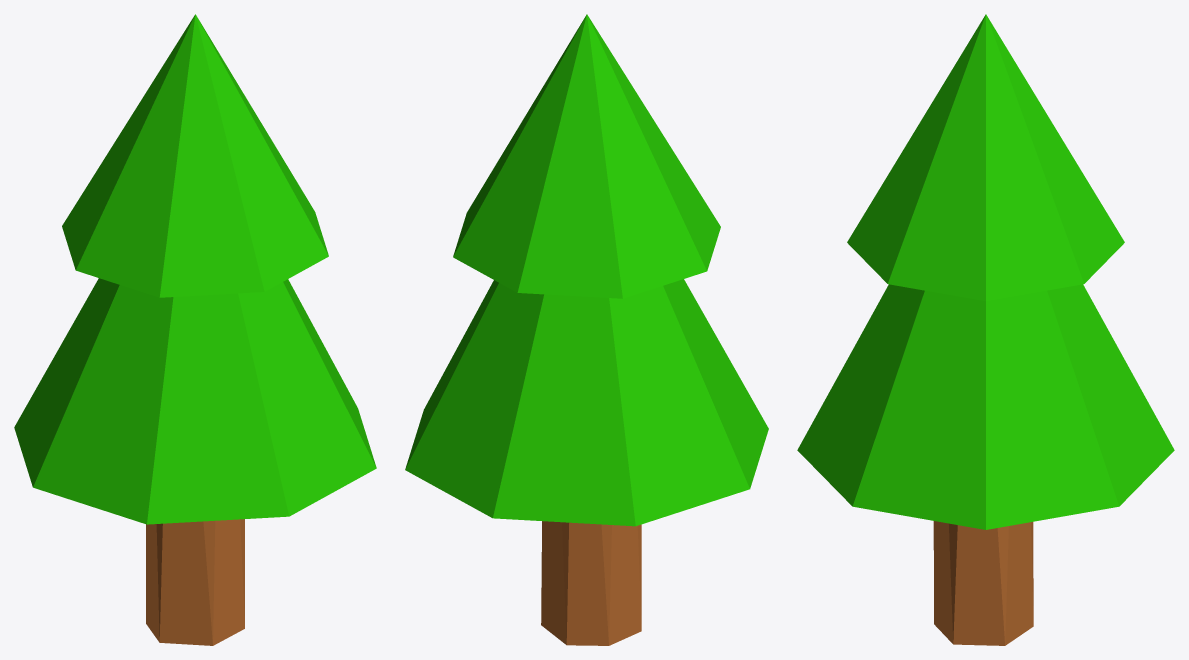
The model's file is spar1.fbx.
3 views of the same model, side by side, from view 1: azimuth 30°, elevation 25°; view 2: azimuth 150°, elevation 25°; view 3: azimuth 270°, elevation 25° (orthographic).
Visible parts, largest first — view 1: Cone.001, Cone.000, Cylinder; view 2: Cone.001, Cone.000, Cylinder; view 3: Cone.001, Cone.000, Cylinder.
Part boxes in pixels (left/top/right/bottom): Cone.001: left=14, top=278, right=376, bottom=524; Cone.000: left=62, top=14, right=328, bottom=297; Cylinder: left=146, top=519, right=244, bottom=645; Cone.001: left=405, top=279, right=768, bottom=526; Cone.000: left=453, top=14, right=720, bottom=298; Cylinder: left=541, top=521, right=641, bottom=645; Cone.001: left=797, top=284, right=1174, bottom=529; Cone.000: left=847, top=14, right=1124, bottom=301; Cylinder: left=933, top=521, right=1033, bottom=645.
Size of the model in its own units: 270 by 486 by 270.
